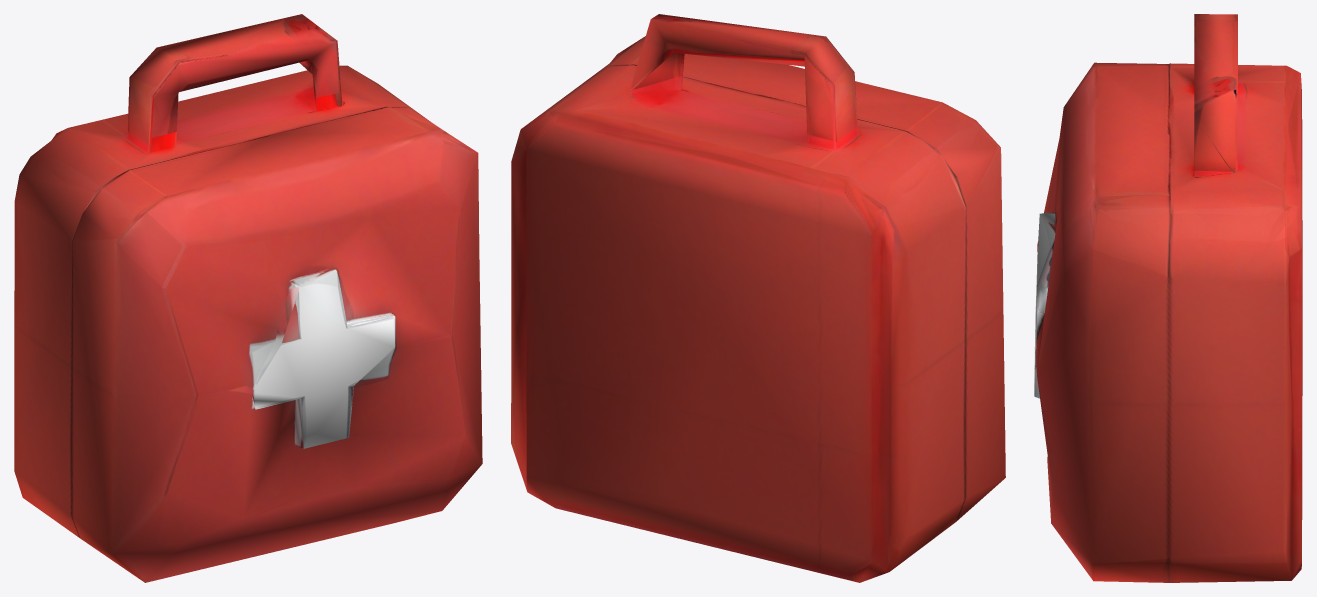
File: health_pack.glb
3 views of the same model, side by side, from view 1: azimuth 30°, elevation 25°; view 2: azimuth 150°, elevation 25°; view 3: azimuth 270°, elevation 25° (orthographic). The views are drawn at different scales.
Visible parts, largest first — view 1: Mesh_0; view 2: Mesh_0; view 3: Mesh_0.
Boxes of the visible parts, bbox=[...] form: Mesh_0: bbox=[14, 14, 482, 582]; Mesh_0: bbox=[511, 14, 1005, 582]; Mesh_0: bbox=[1034, 14, 1302, 582].
Size of the model in its own units: 0.8263 by 1 by 0.5148.
Materials: 1 (1 with a texture image).
